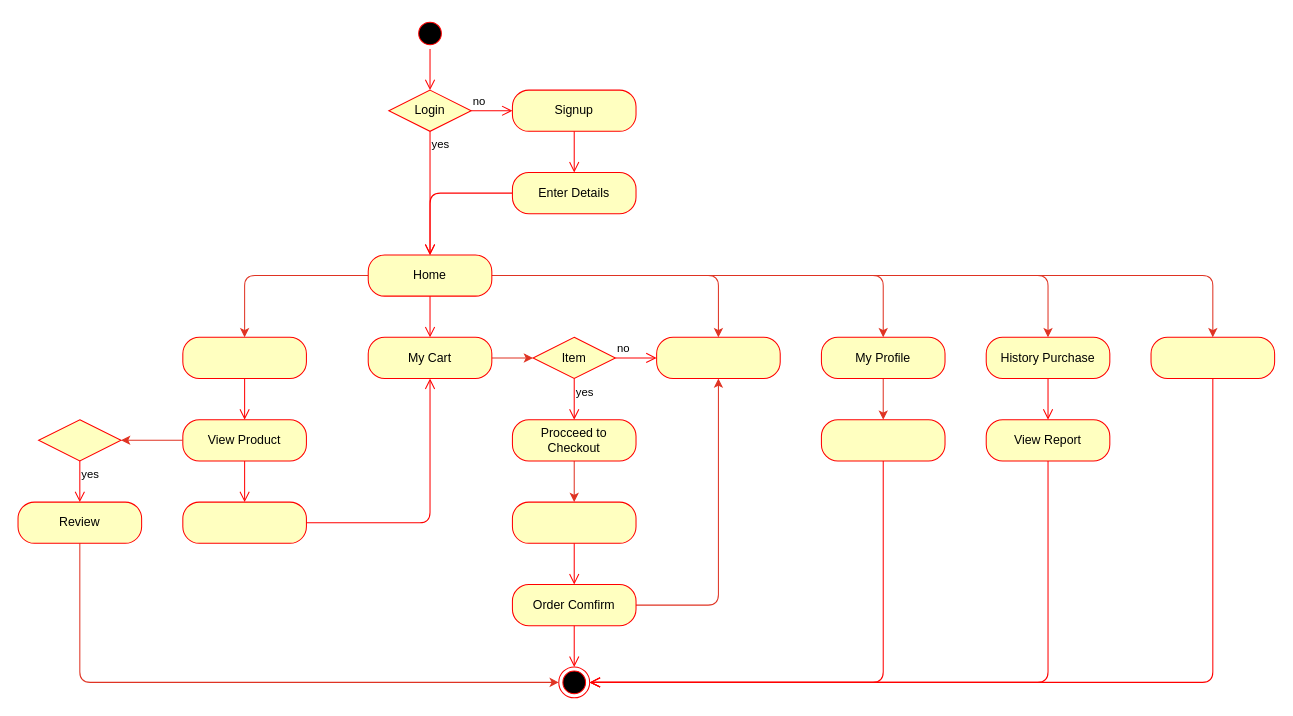
The diagram is 1293 pixels wide and 716 high, and some of its shapes have lost their labels. Each missing label, with the centre of its shape:
Add to Cart: the point at 244,522
Bought: the point at 79,440
Change Password/Information: the point at 882,440
Continue shopping: the point at 718,357
Payment: the point at 573,522
Select Product: the point at 244,357
View Notification: the point at 1212,357
